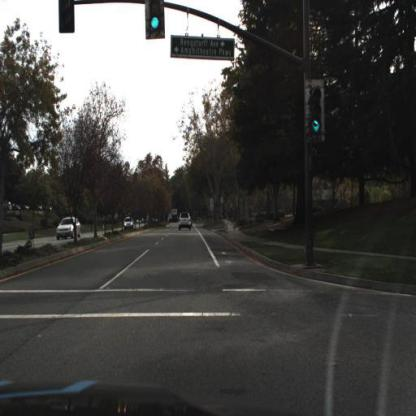car: (54, 215, 83, 240), (179, 211, 193, 232), (123, 217, 136, 232)
trafficLight: (303, 77, 327, 144)
